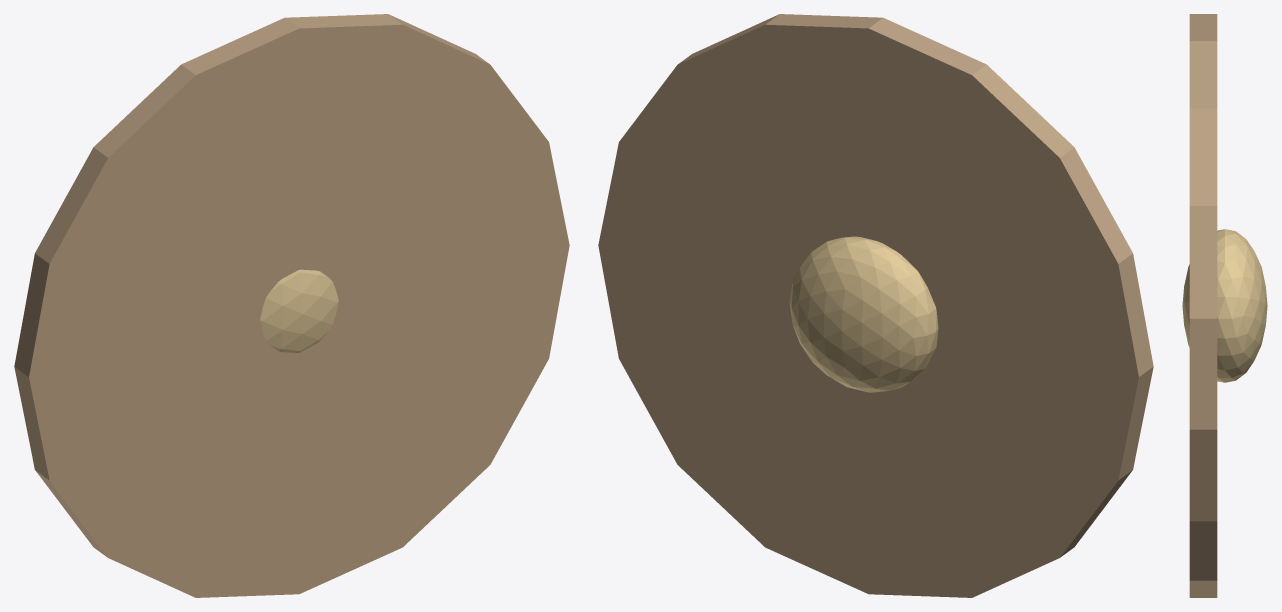
File: WPN_WoodenShield.glb
3 renders of one model, left to right at view 1: azimuth 30°, elevation 25°; view 2: azimuth 150°, elevation 25°; view 3: azimuth 270°, elevation 25°, orthographic. The views are drawn at different scales.
Visible parts, largest first — view 1: Shield_0, Shield_1; view 2: Shield_0, Shield_1; view 3: Shield_0, Shield_1.
Boxes of the visible parts, box(x1,y1,x2,y2) form: Shield_0: box(14, 14, 569, 597); Shield_1: box(260, 269, 338, 352); Shield_0: box(598, 14, 1153, 597); Shield_1: box(789, 236, 938, 392); Shield_0: box(1189, 14, 1217, 597); Shield_1: box(1182, 229, 1267, 382).
Size of the model in its own units: 0.68 by 0.68 by 0.099.
